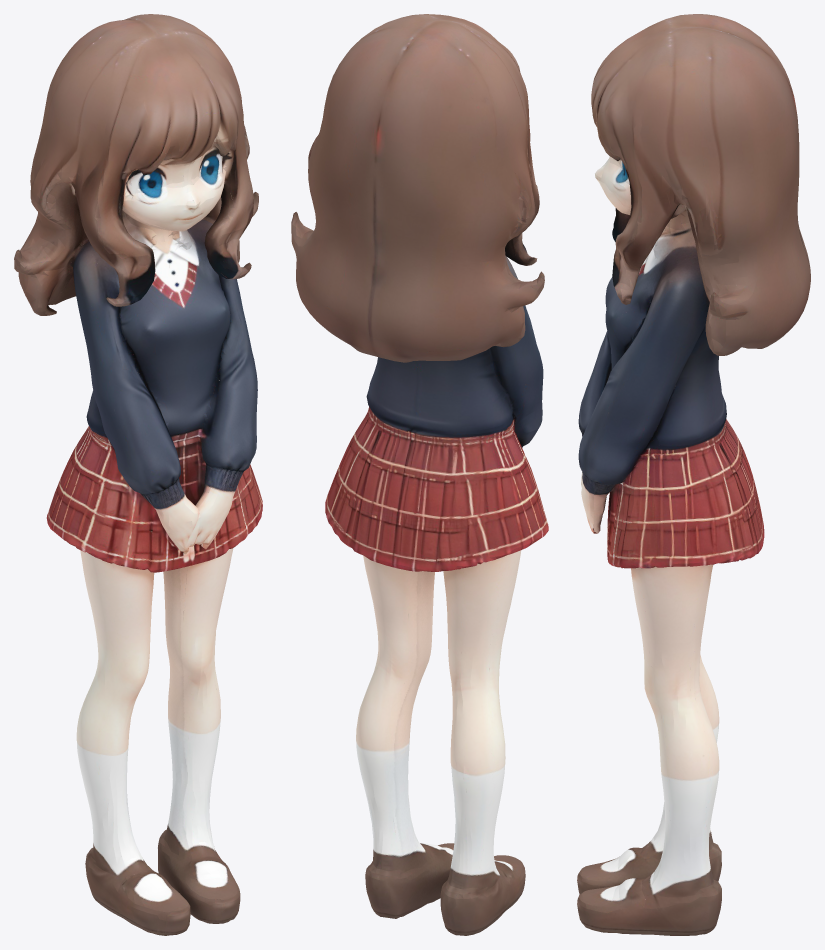
Rendered from girl.glb.
3 views of the same model, side by side, from view 1: azimuth 30°, elevation 25°; view 2: azimuth 150°, elevation 25°; view 3: azimuth 270°, elevation 25° (orthographic). The views are drawn at different scales.
Visible parts, largest first — view 1: Mesh; view 2: Mesh; view 3: Mesh.
Boxes of the visible parts, left/top/right/bottom form: Mesh: left=14, top=14, right=262, bottom=935; Mesh: left=291, top=14, right=548, bottom=935; Mesh: left=577, top=14, right=810, bottom=935.
Size of the model in its own units: 0.5619 by 1.91 by 0.4563.
Materials: 1 (1 with a texture image).
